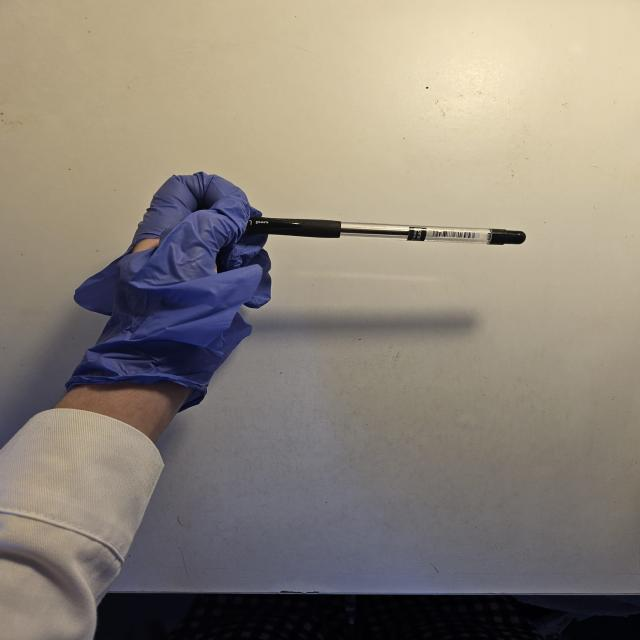gloves_damaged: (64, 170, 274, 406)
